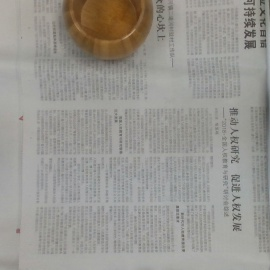chess: (63, 1, 157, 60)
